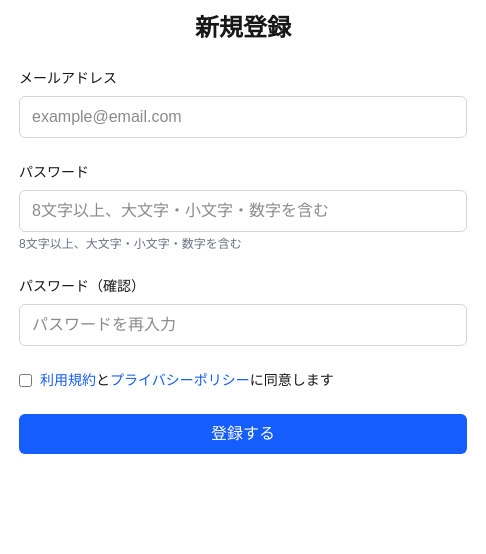
SignUpForm › パスワードが一致しない場合エラーが表示されること
This screenshot has width=486, height=554.
Type "test@example.com" into the field labelled "メールアドレス" at (243, 117), box [19,96,467,138]
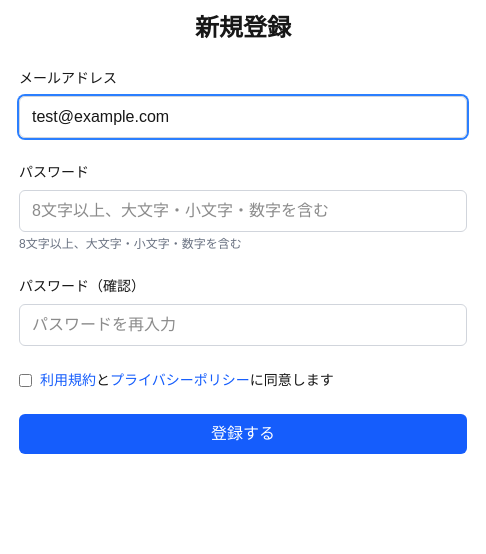
Type "Password123" into the password field labelled "パスワード" at (243, 211), box [19,190,467,232]
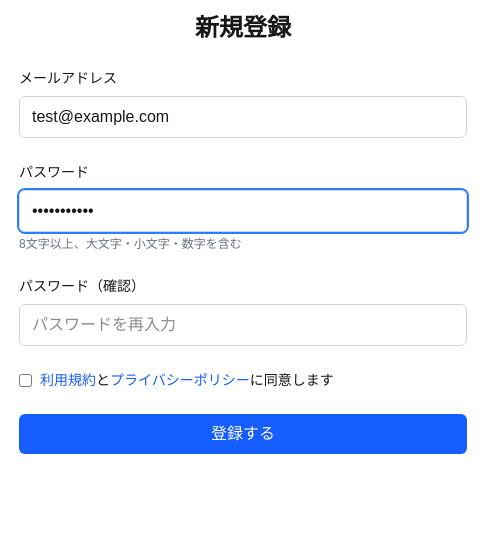
Type "Password456" into the password field labelled "パスワード（確認）" at (243, 325), box [19,304,467,346]
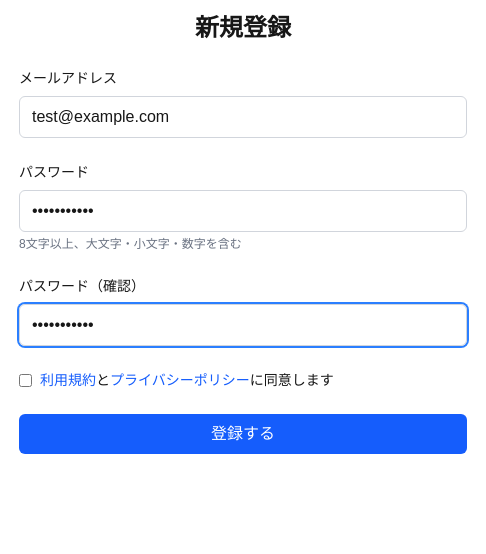
Click the checkbox at (26, 380), box [19,374,32,387]
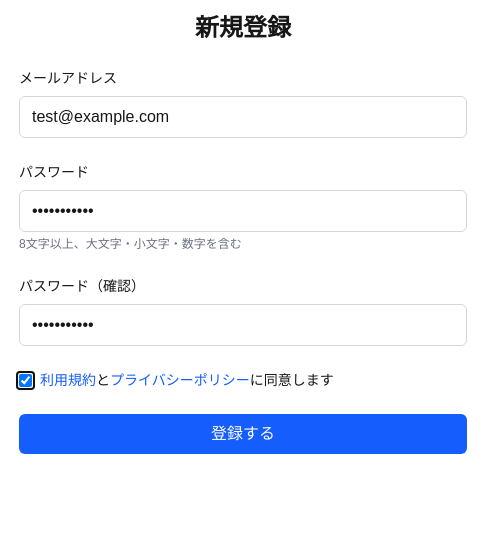
Click the button "登録する" at (243, 434), box [19,414,467,454]
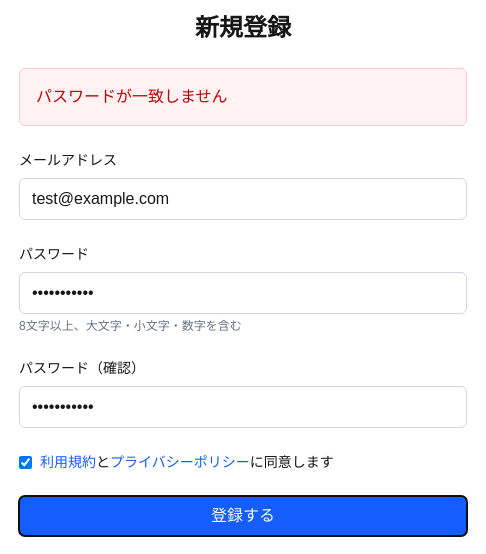
Expected: the text "パスワードが一致しません" is shown, [19,68,467,126]
